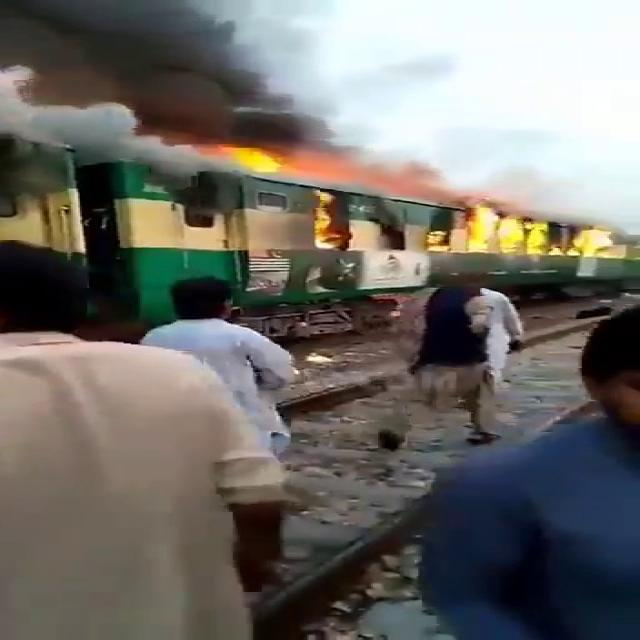Fire: (135, 136, 458, 206), (427, 207, 640, 258)
